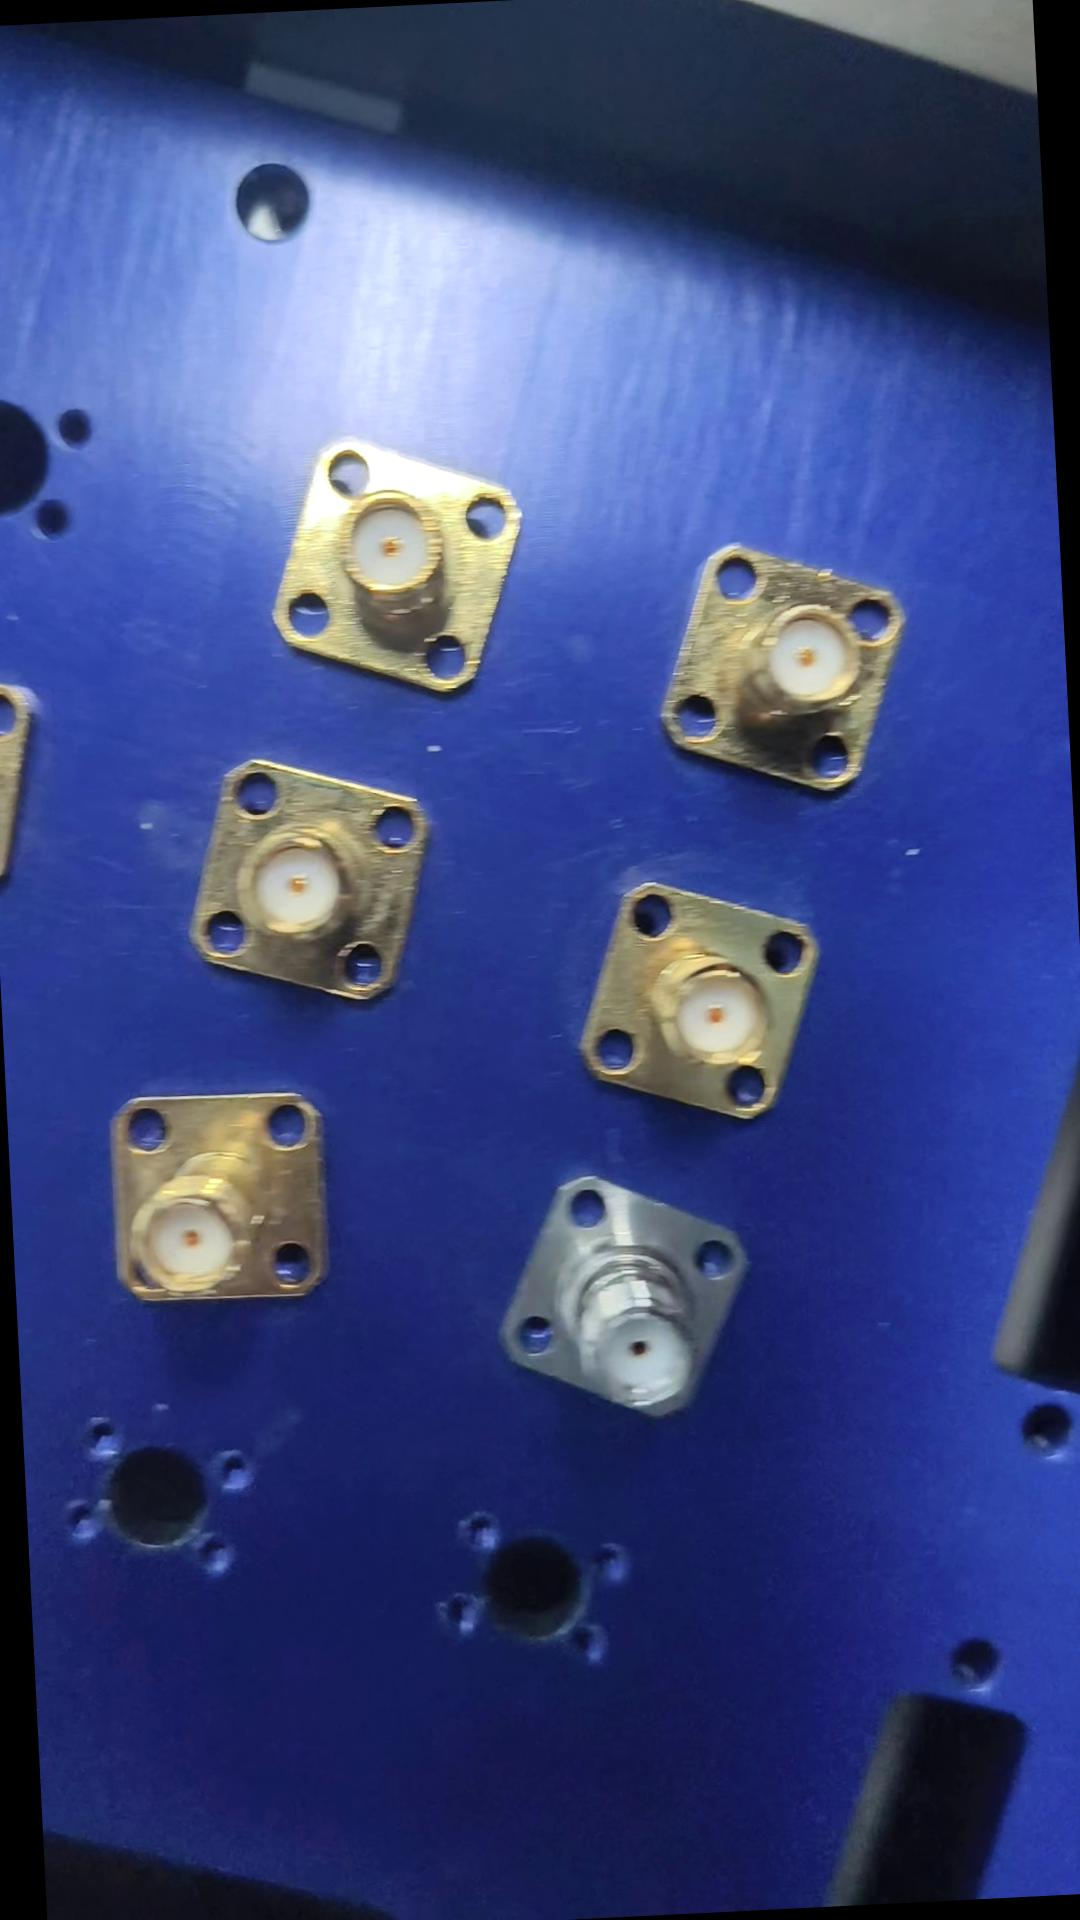SMA: (258, 426, 535, 703), (650, 531, 920, 799), (485, 1168, 752, 1432), (175, 752, 435, 1015), (563, 874, 822, 1130), (99, 1081, 331, 1313)
